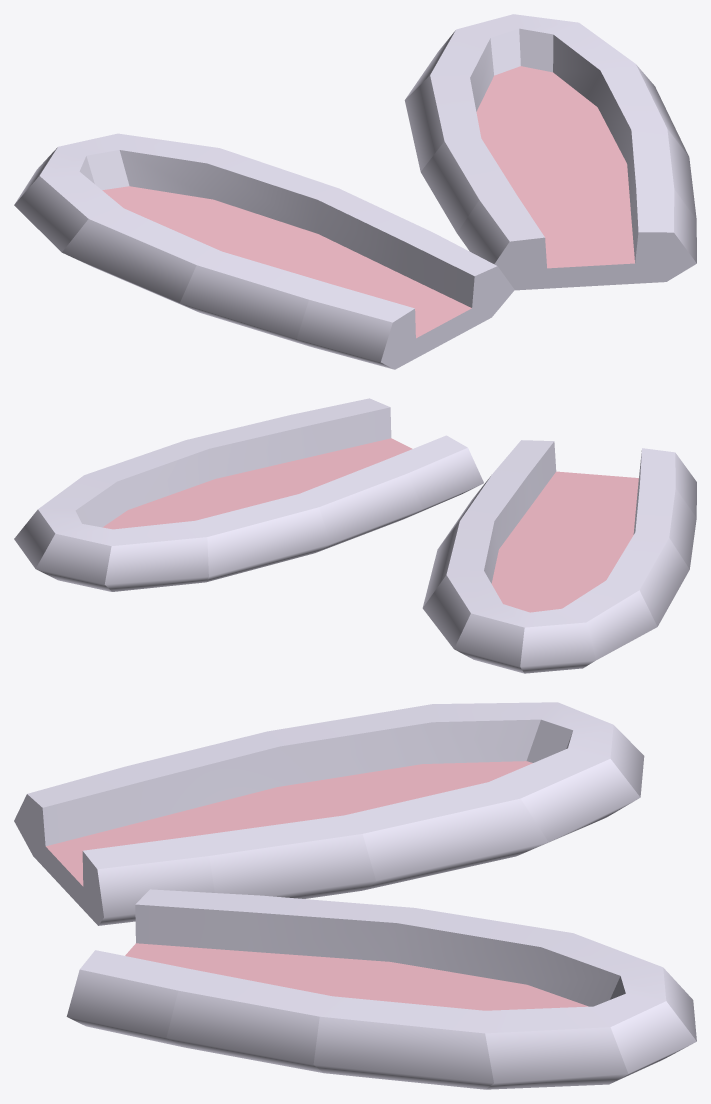
File: Asset_BunnyEars.fbx
3 renders of one model, top to bottom at view 1: azimuth 30°, elevation 25°; view 2: azimuth 150°, elevation 25°; view 3: azimuth 270°, elevation 25°, orthographic. The views are drawn at different scales.
Visible parts, largest first — view 1: Asset_BunnyEars; view 2: Asset_BunnyEars; view 3: Asset_BunnyEars.
Part boxes in pixels (bbox=[...]): Asset_BunnyEars: bbox=[14, 14, 696, 369]; Asset_BunnyEars: bbox=[14, 398, 696, 673]; Asset_BunnyEars: bbox=[14, 702, 696, 1089].
Size of the model in its own units: 48.3 by 5.03 by 39.18.
